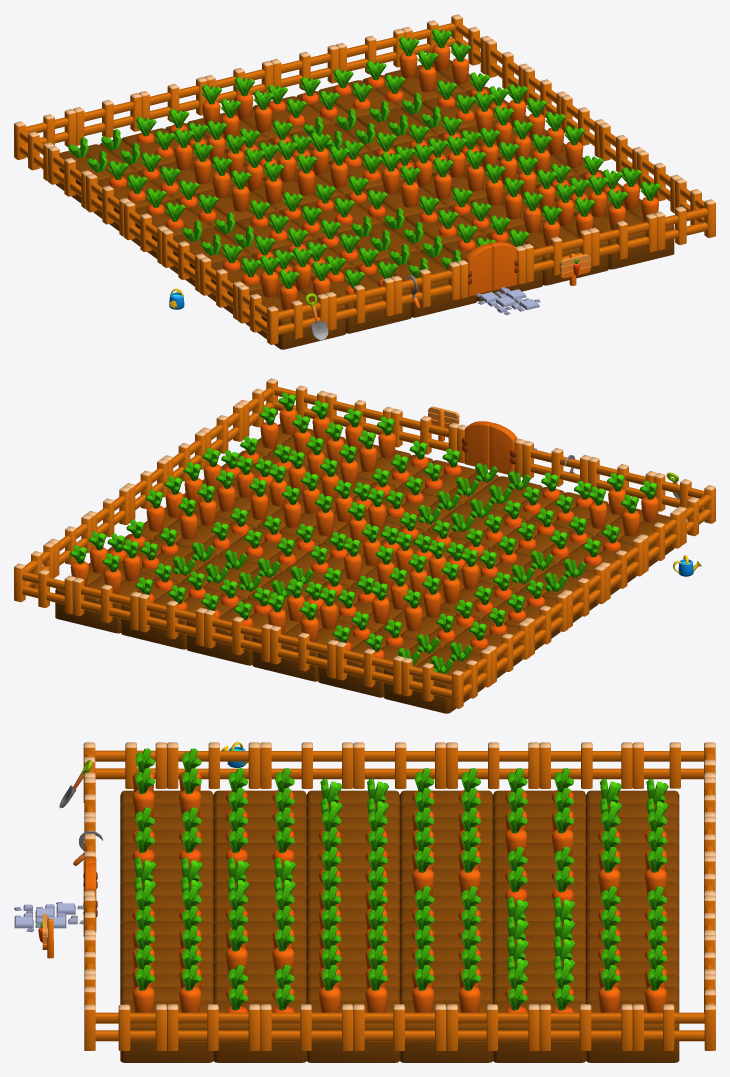
The model's file is Carrot Field.glb.
The picture shows the model from 3 angles, top to bottom: view 1: azimuth 30°, elevation 25°; view 2: azimuth 150°, elevation 25°; view 3: azimuth 270°, elevation 25°; orthographic projection. The views are drawn at different scales.
Parts seen in each view (by area): view 1: 3D_Tile_Farm_Field_01; view 2: 3D_Tile_Farm_Field_01; view 3: 3D_Tile_Farm_Field_01.
Boxes of the visible parts, x1,y1,x2,y2 form: 3D_Tile_Farm_Field_01: (14,14,715,349); 3D_Tile_Farm_Field_01: (14,378,715,713); 3D_Tile_Farm_Field_01: (14,742,715,1062).
Bounding box in the file's own units: 14.88 × 2.02 × 15.08.
Materials: 2 (2 with a texture image).
